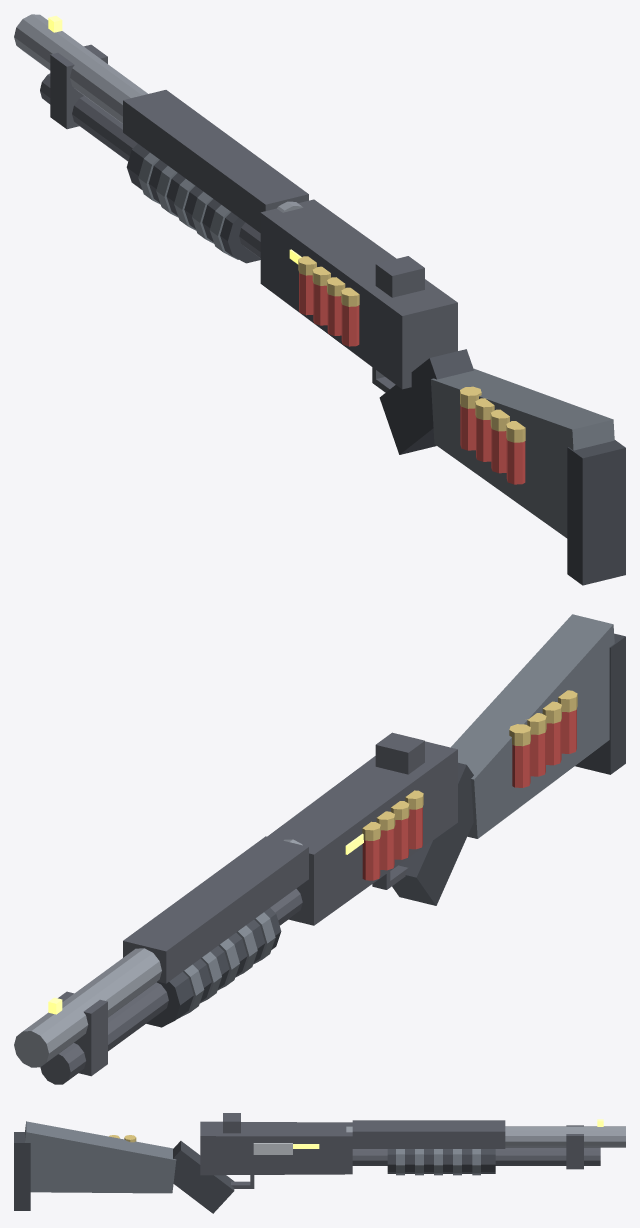
Rendered from shotgun.glb.
The picture shows the model from 3 angles, top to bottom: view 1: azimuth 30°, elevation 25°; view 2: azimuth 150°, elevation 25°; view 3: azimuth 270°, elevation 25°; orthographic projection. The views are drawn at different scales.
Parts seen in each view (by area): view 1: Shotgun_gun_steel_dark, Shotgun_polymer_black, Shotgun_polymer_slate, Shotgun_shell_red, Shotgun_gun_steel_mid, Shotgun_brass; view 2: Shotgun_gun_steel_dark, Shotgun_polymer_slate, Shotgun_polymer_black, Shotgun_gun_steel_mid, Shotgun_shell_red, Shotgun_brass; view 3: Shotgun_gun_steel_dark, Shotgun_polymer_slate, Shotgun_polymer_black, Shotgun_gun_steel_mid, Shotgun_gun_titanium, Shotgun_emissive_amber.
Part boxes in pixels (x1,y1,x2,y2): Shotgun_gun_steel_dark: (40,44,457,392); Shotgun_polymer_black: (126,144,625,585); Shotgun_polymer_slate: (138,152,614,538); Shotgun_shell_red: (299,272,525,484); Shotgun_gun_steel_mid: (14,14,303,212); Shotgun_brass: (298,256,525,442); Shotgun_gun_steel_dark: (40,732,457,1084); Shotgun_polymer_slate: (178,614,614,1018); Shotgun_polymer_black: (146,633,625,1027); Shotgun_gun_steel_mid: (14,839,302,1067); Shotgun_shell_red: (362,709,576,880); Shotgun_brass: (362,690,577,840); Shotgun_gun_steel_dark: (200,1113,600,1188); Shotgun_polymer_slate: (25,1121,480,1193); Shotgun_polymer_black: (14,1132,495,1213); Shotgun_gun_steel_mid: (346,1126,625,1147); Shotgun_gun_titanium: (253,1143,292,1154); Shotgun_emissive_amber: (293,1119,603,1148).
Bounding box in the file's own units: 0.068 × 0.1593 × 0.963.
